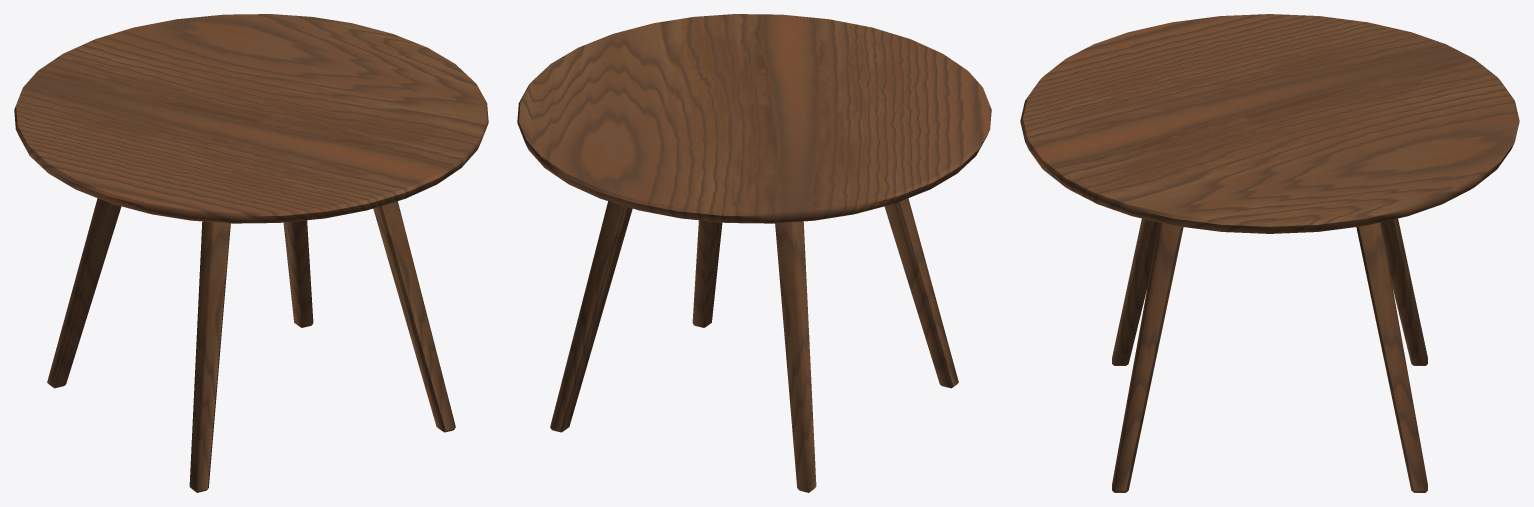
File: Table4.glb
3 renders of one model, left to right at view 1: azimuth 30°, elevation 25°; view 2: azimuth 150°, elevation 25°; view 3: azimuth 270°, elevation 25°, orthographic. The views are drawn at different scales.
Visible parts, largest first — view 1: Cube.035; view 2: Cube.035; view 3: Cube.035.
Boxes of the visible parts, bbox=[...] form: Cube.035: bbox=[14, 14, 488, 492]; Cube.035: bbox=[517, 14, 991, 492]; Cube.035: bbox=[1020, 14, 1519, 492].
Bounding box in the file's own units: 1.02 × 0.6922 × 1.02.
1 material, 1 textured.
